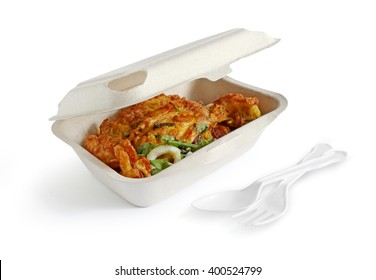Foam Box: (44, 24, 295, 209)
